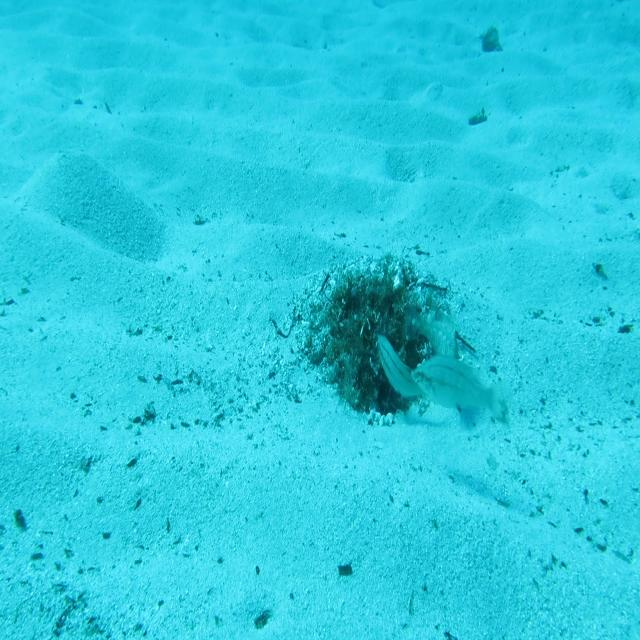DAN_CIRC: (403, 300, 459, 362)
core_nest: (350, 285, 404, 322)
female: (410, 352, 514, 436), (376, 332, 426, 402)
nest: (288, 248, 454, 433)
vegetation: (479, 25, 505, 54), (465, 105, 489, 125), (336, 558, 357, 579), (254, 609, 270, 631), (616, 317, 633, 337)
